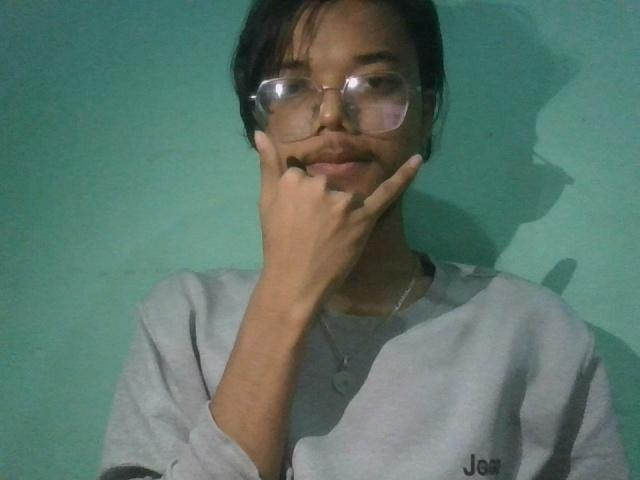Wrong: (214, 119, 438, 325)
